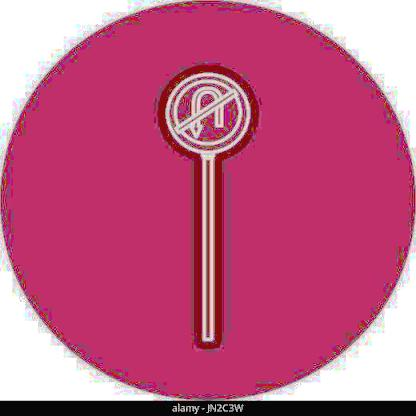No U-turn: (159, 74, 256, 160)
